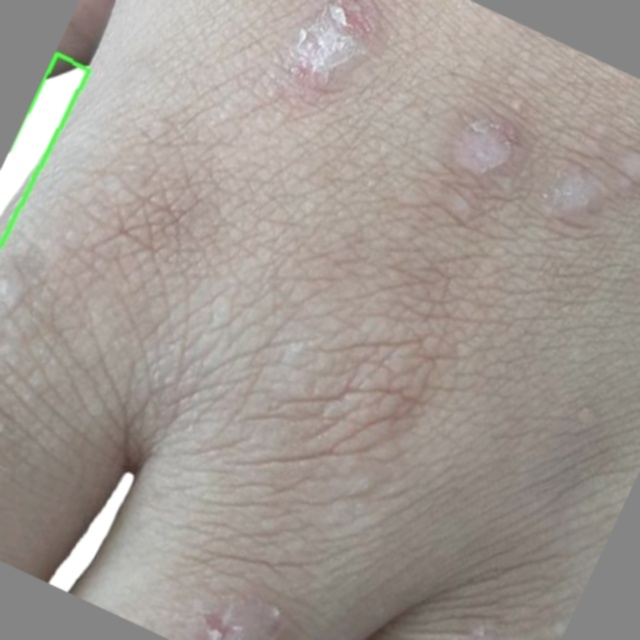Contact Dermatitis: (0, 53, 88, 243)
